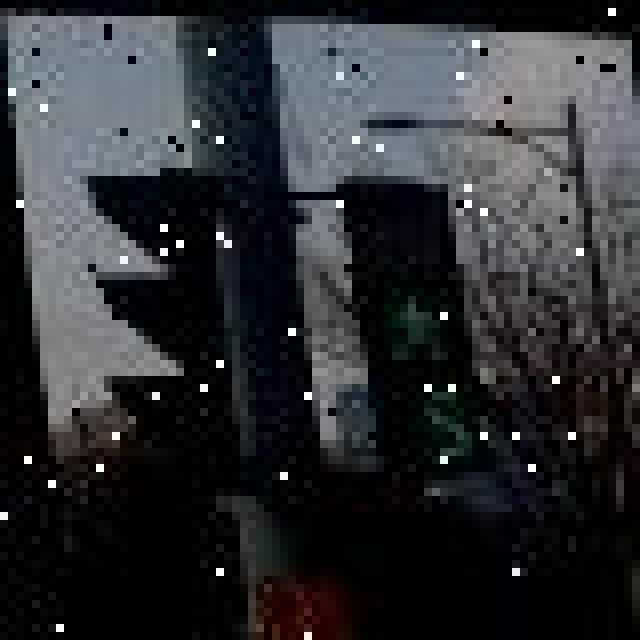greenlight: (338, 180, 480, 372)
